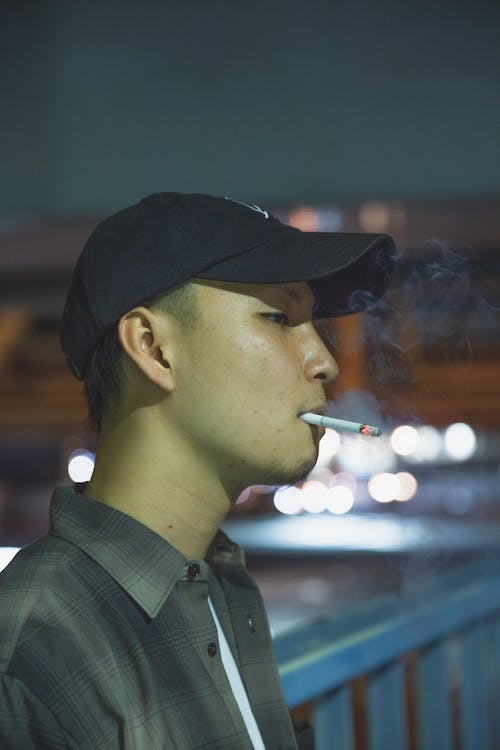cigarette: (300, 407, 384, 440)
